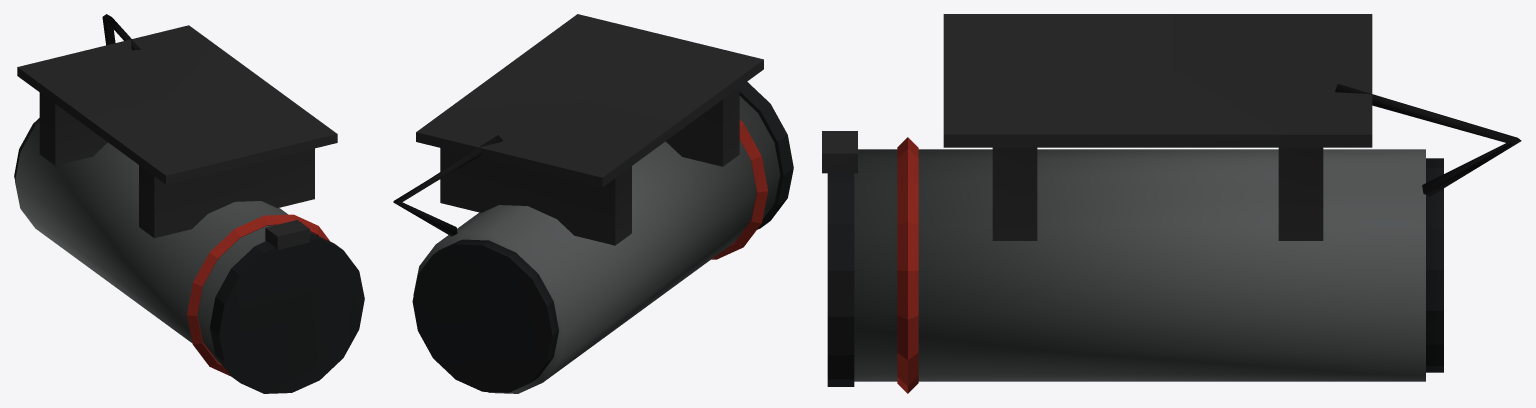
The model's file is hunter_net_pod.glb.
The picture shows the model from 3 angles, left to right: view 1: azimuth 30°, elevation 25°; view 2: azimuth 150°, elevation 25°; view 3: azimuth 270°, elevation 25°; orthographic projection. The views are drawn at different scales.
Visible parts, largest first — view 1: net_pod_LOD0, pod_door_LOD0; view 2: net_pod_LOD0, pod_door_LOD0; view 3: net_pod_LOD0, pod_door_LOD0.
Part boxes in pixels (x1,y1,x2,y2): net_pod_LOD0: [14, 14, 337, 376]; pod_door_LOD0: [209, 220, 364, 393]; net_pod_LOD0: [393, 14, 780, 393]; pod_door_LOD0: [739, 82, 793, 229]; net_pod_LOD0: [854, 14, 1521, 393]; pod_door_LOD0: [822, 131, 857, 386].
Size of what is drawn, in the model's own units: 0.16 by 0.1939 by 0.3916.
